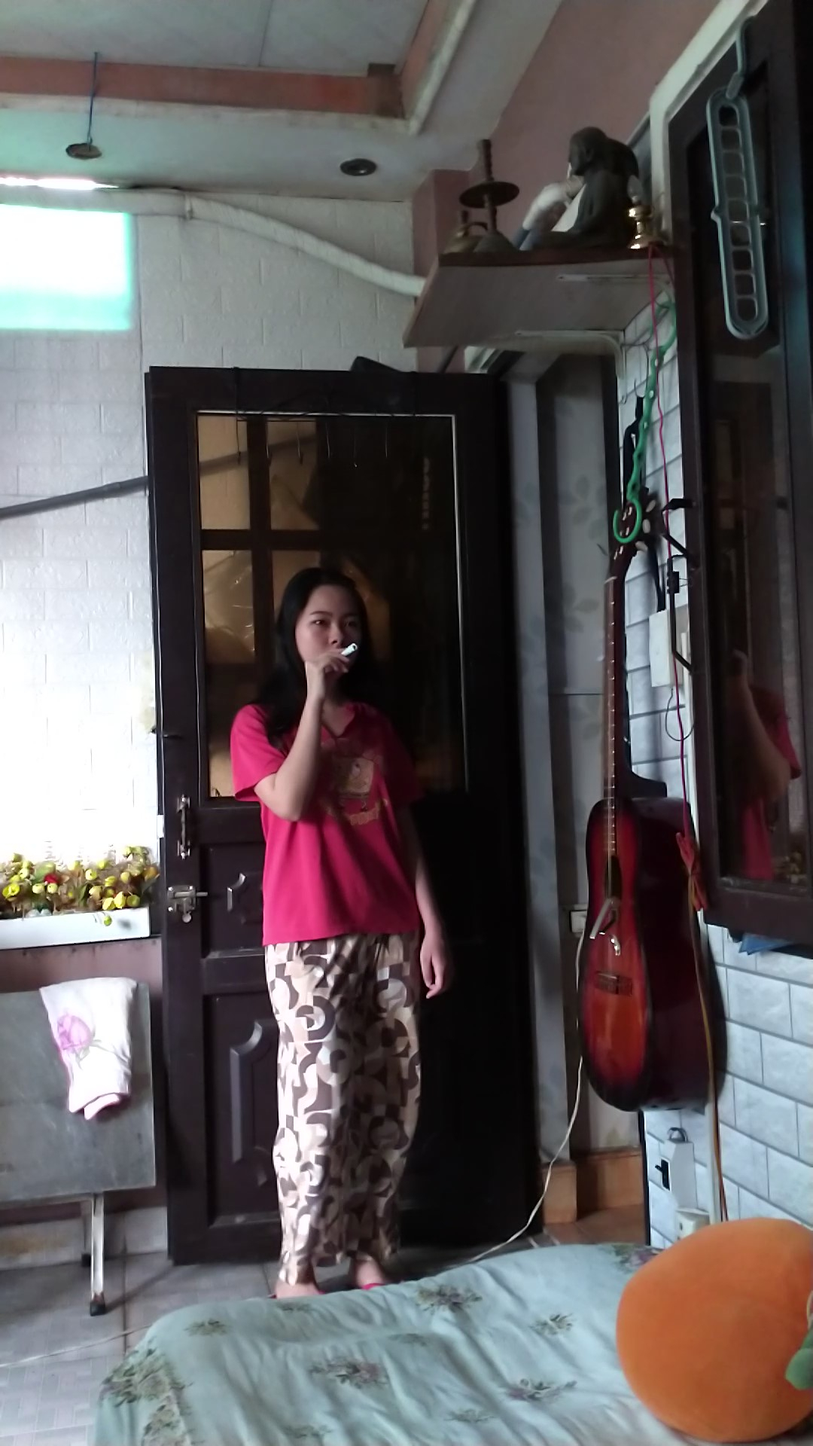cigarette: (341, 639, 363, 659)
person: (230, 516, 452, 1312)
